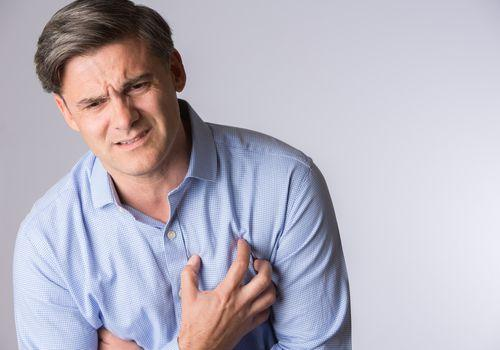pain: (69, 69, 160, 113)
